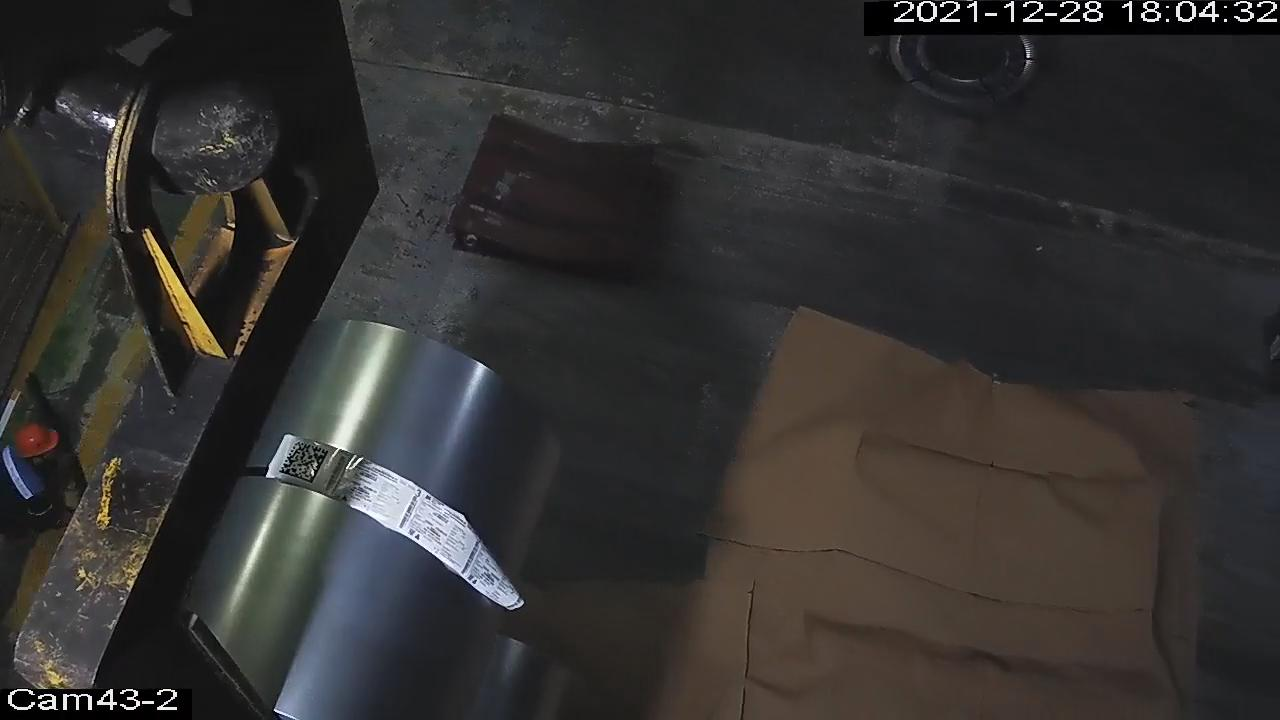data matrix: (278, 436, 333, 486)
